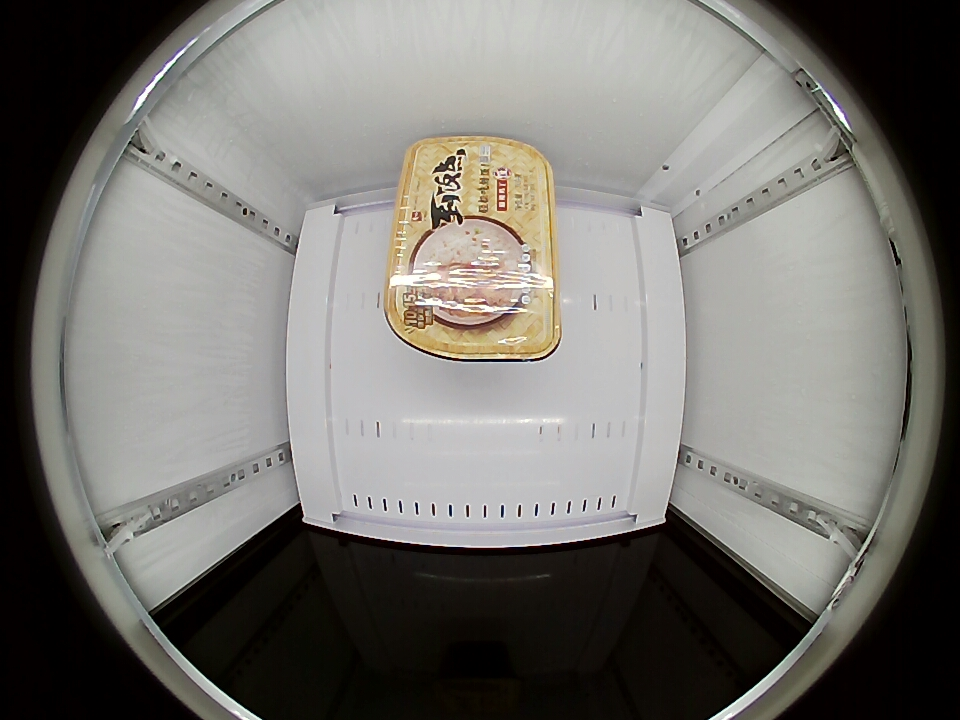daofandian4: (386, 136, 560, 364)
